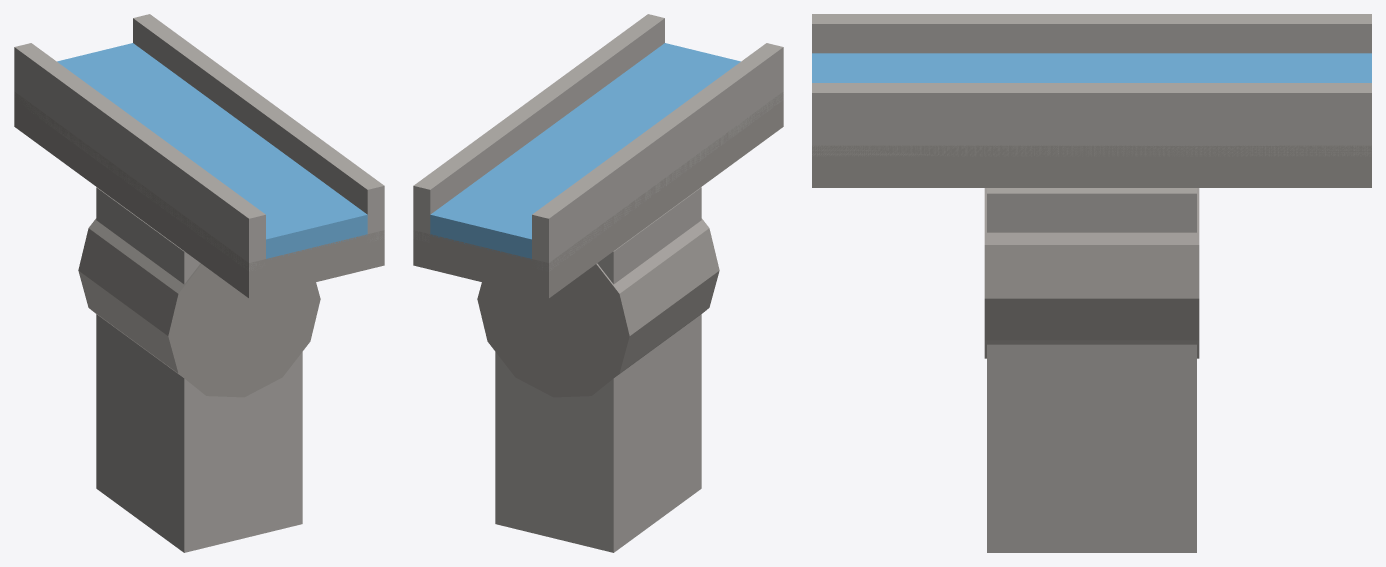
The model's file is aqueduct_pipe.glb.
3 renders of one model, left to right at view 1: azimuth 30°, elevation 25°; view 2: azimuth 150°, elevation 25°; view 3: azimuth 270°, elevation 25°, orthographic. The views are drawn at different scales.
Parts seen in each view (by area): view 1: Cube, Cylinder, Cube.004, Cube.002, Cube.001, Cube.003; view 2: Cube, Cylinder, Cube.004, Cube.002, Cube.001, Cube.003; view 3: Cube, Cube.003, Cylinder, Cube.001, Cube.002, Cube.004.
Part boxes in pixels (x1=…): Cube: x1=96, y1=187, x2=302, y2=552; Cylinder: x1=78, y1=218, x2=320, y2=397; Cube.004: x1=57, y1=43, x2=367, y2=259; Cube.002: x1=14, y1=43, x2=265, y2=271; Cube.001: x1=14, y1=91, x2=384, y2=298; Cube.003: x1=133, y1=14, x2=384, y2=241; Cube: x1=495, y1=187, x2=701, y2=552; Cylinder: x1=477, y1=218, x2=719, y2=397; Cube.004: x1=430, y1=43, x2=740, y2=258; Cube.002: x1=532, y1=43, x2=783, y2=270; Cube.001: x1=413, y1=92, x2=783, y2=298; Cube.003: x1=413, y1=14, x2=664, y2=242; Cube: x1=987, y1=188, x2=1196, y2=552; Cube.003: x1=812, y1=83, x2=1371, y2=156; Cylinder: x1=984, y1=188, x2=1199, y2=358; Cube.001: x1=812, y1=145, x2=1371, y2=187; Cube.002: x1=812, y1=14, x2=1371, y2=53; Cube.004: x1=812, y1=53, x2=1371, y2=82.
Size of the model in its own units: 0.9 by 2.2 by 2.4.
